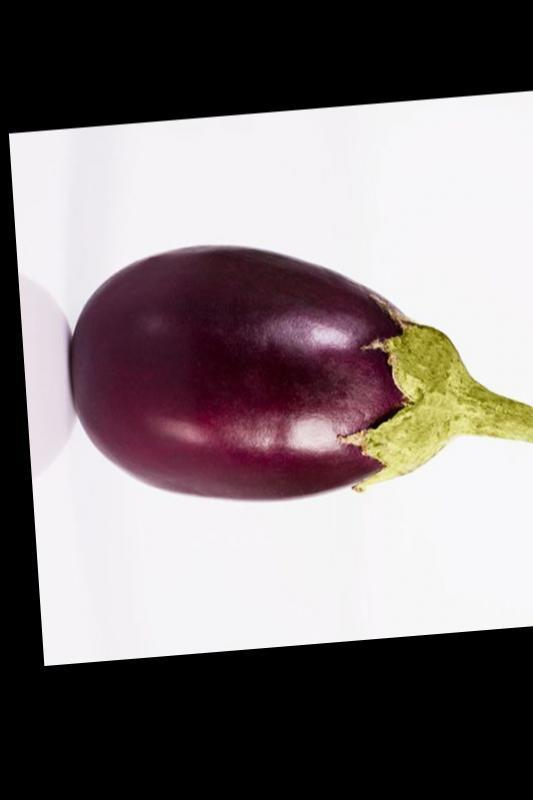eggplant: (44, 221, 532, 533)
